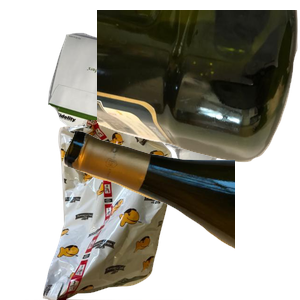glass: (60, 128, 300, 300)
paper: (45, 30, 281, 195)
plastic: (97, 10, 300, 165)
trash: (25, 120, 198, 300)
